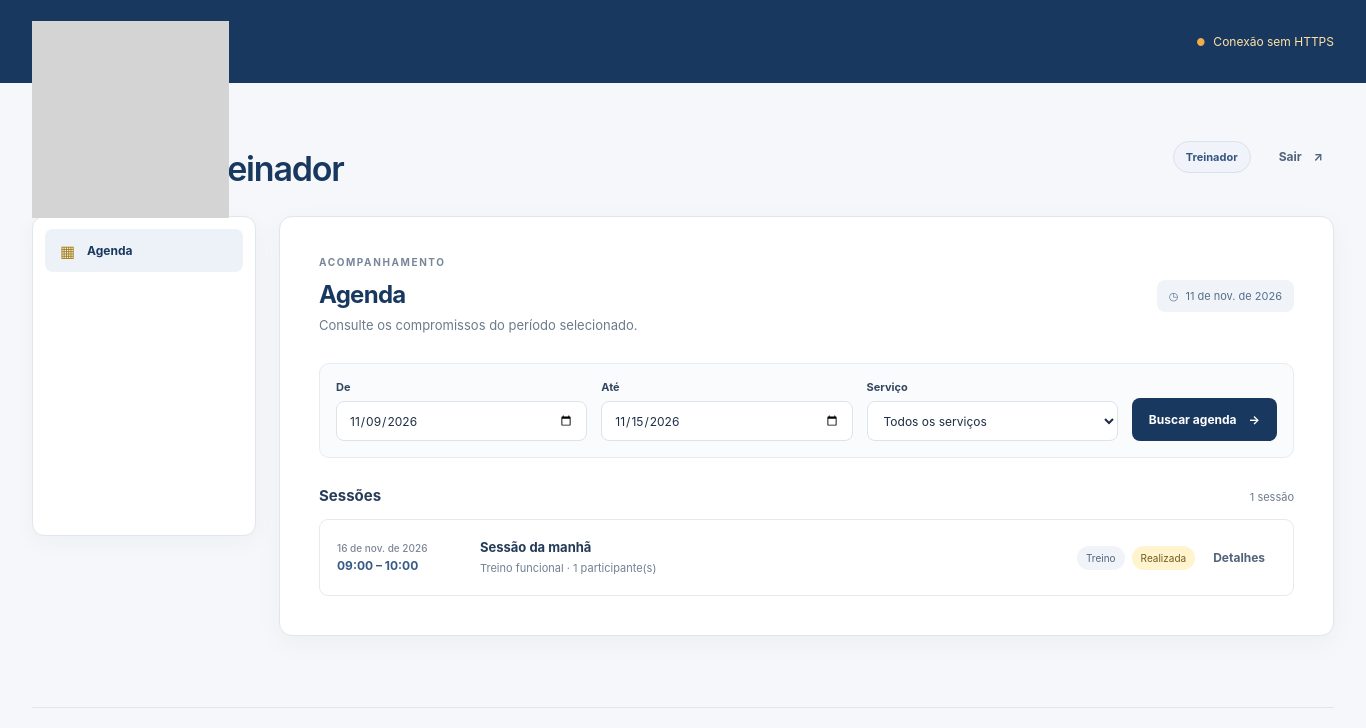
Test case: Treinador › preenche e finaliza o relatório de uma sessão realizada
The image size is (1366, 728).
Click the button "Detalhes". click: (1239, 558)
box: [1202, 536, 1276, 579]
(page scrolled)
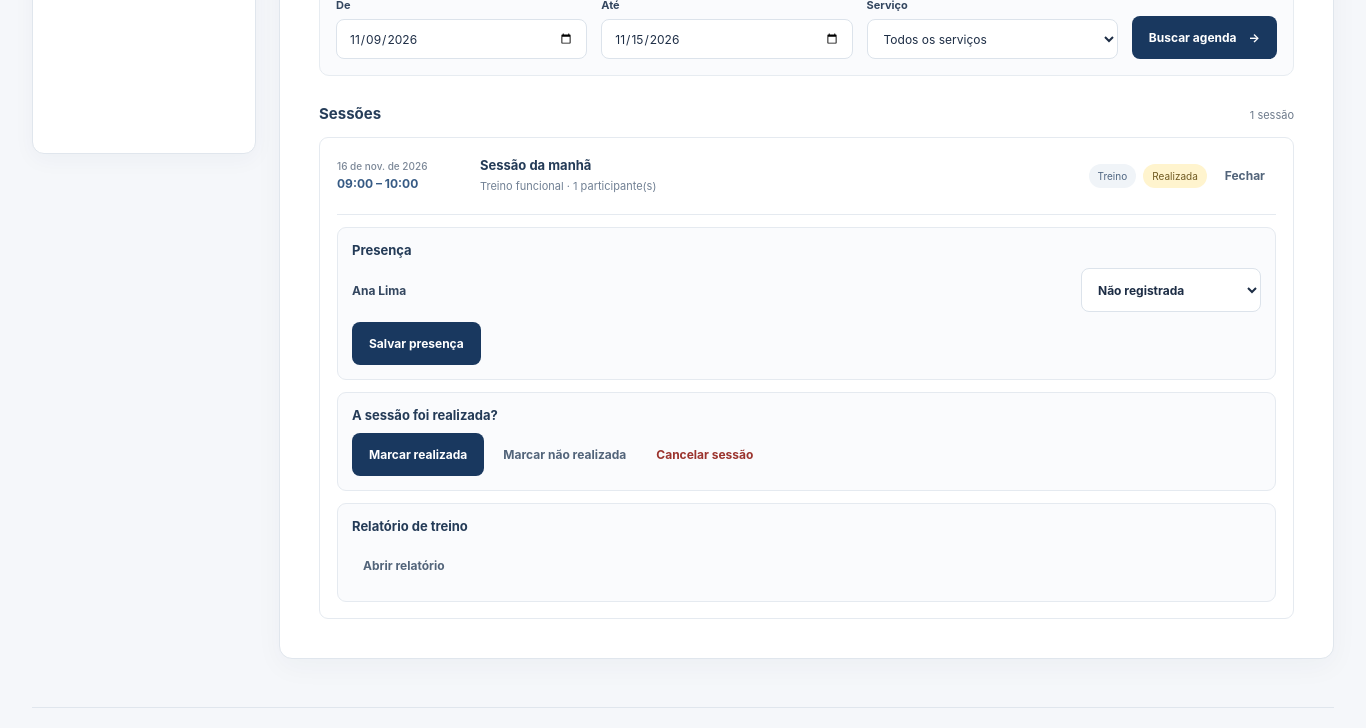
Click the button "Abrir relatório". click: (404, 566)
box: [352, 544, 456, 587]
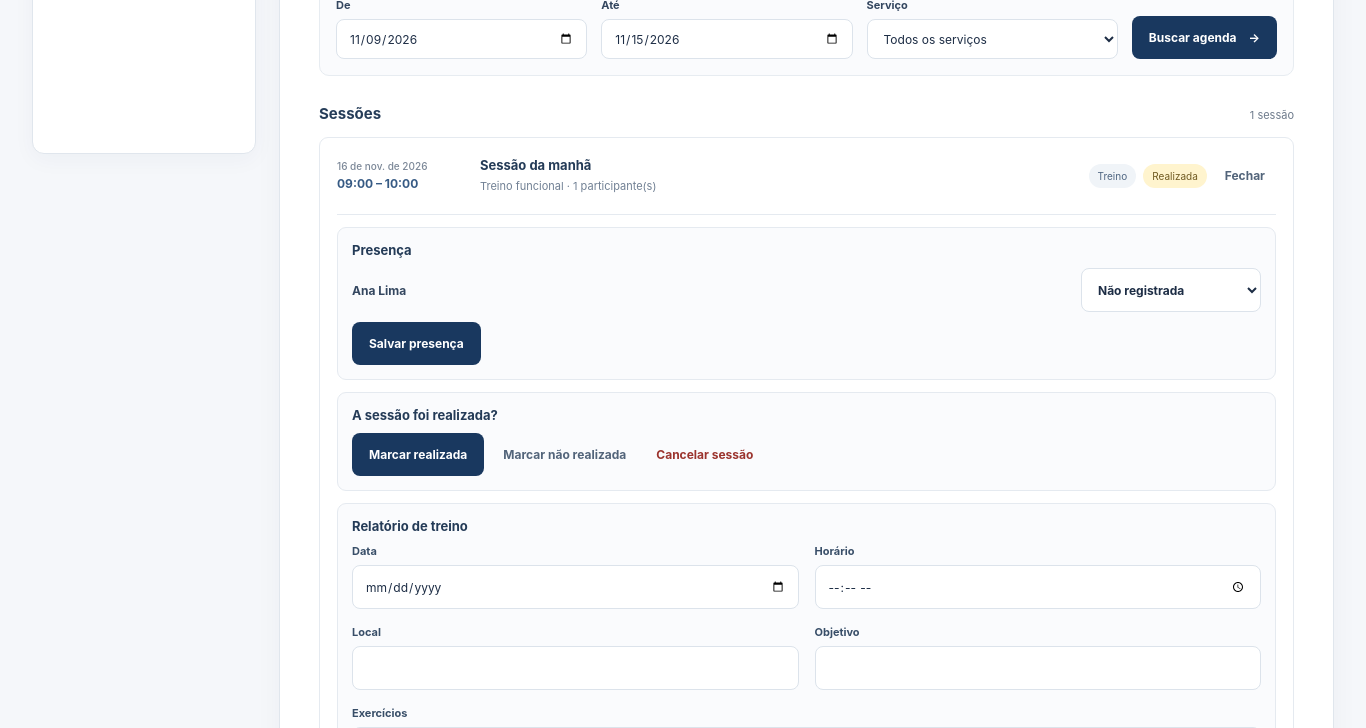
Type "Força" into the field labelled "Objetivo". click: (1038, 668)
box: [814, 646, 1261, 690]
(page scrolled)
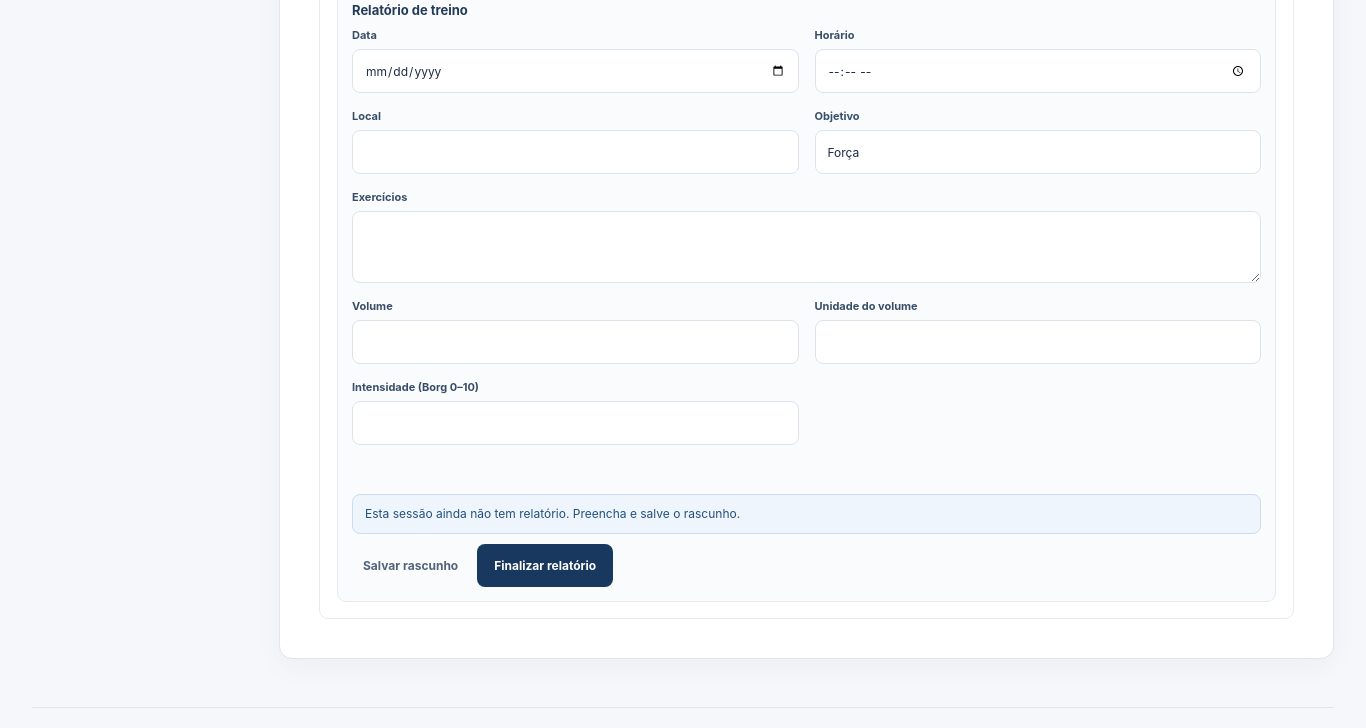
Click the button "Salvar rascunho". click: (411, 566)
box: [352, 544, 469, 587]
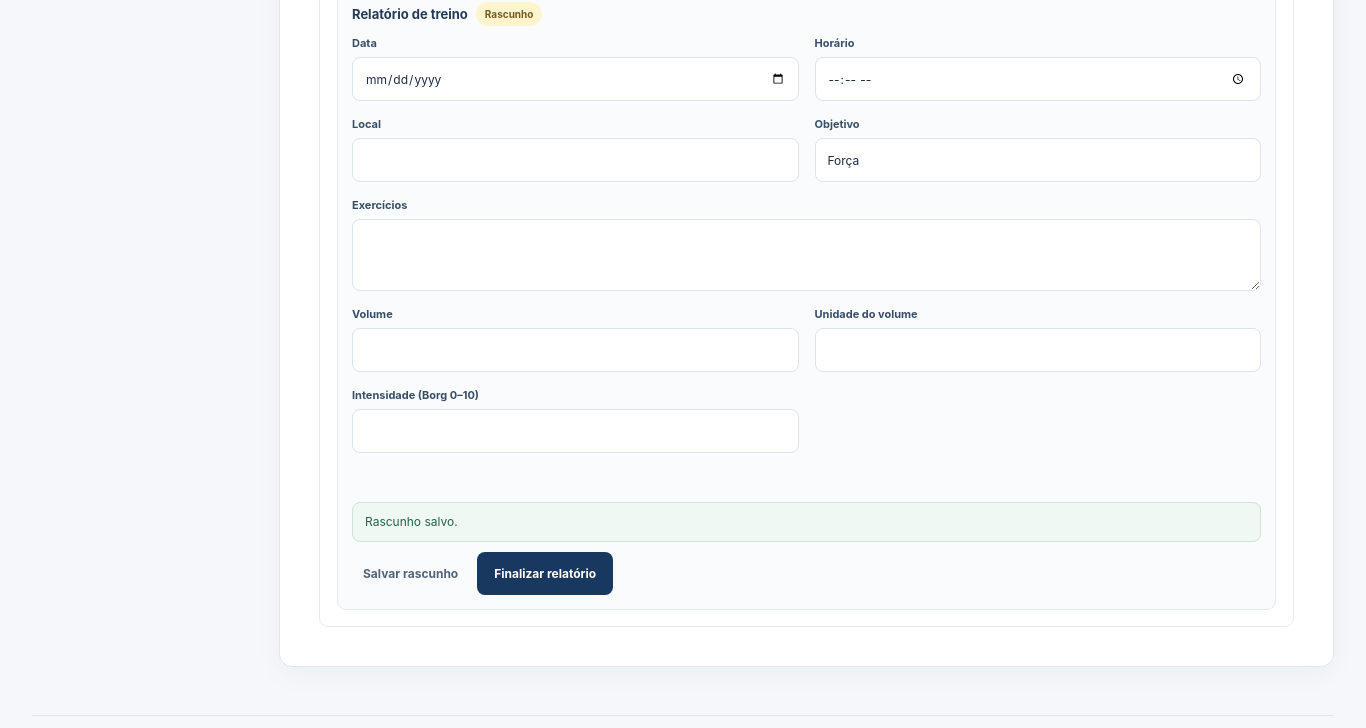
Expected: the text "Rascunho salvo." is shown, [352, 502, 1261, 542]
Click the button "Finalizar relatório". click: (545, 574)
box: [477, 552, 613, 595]
(page scrolled)
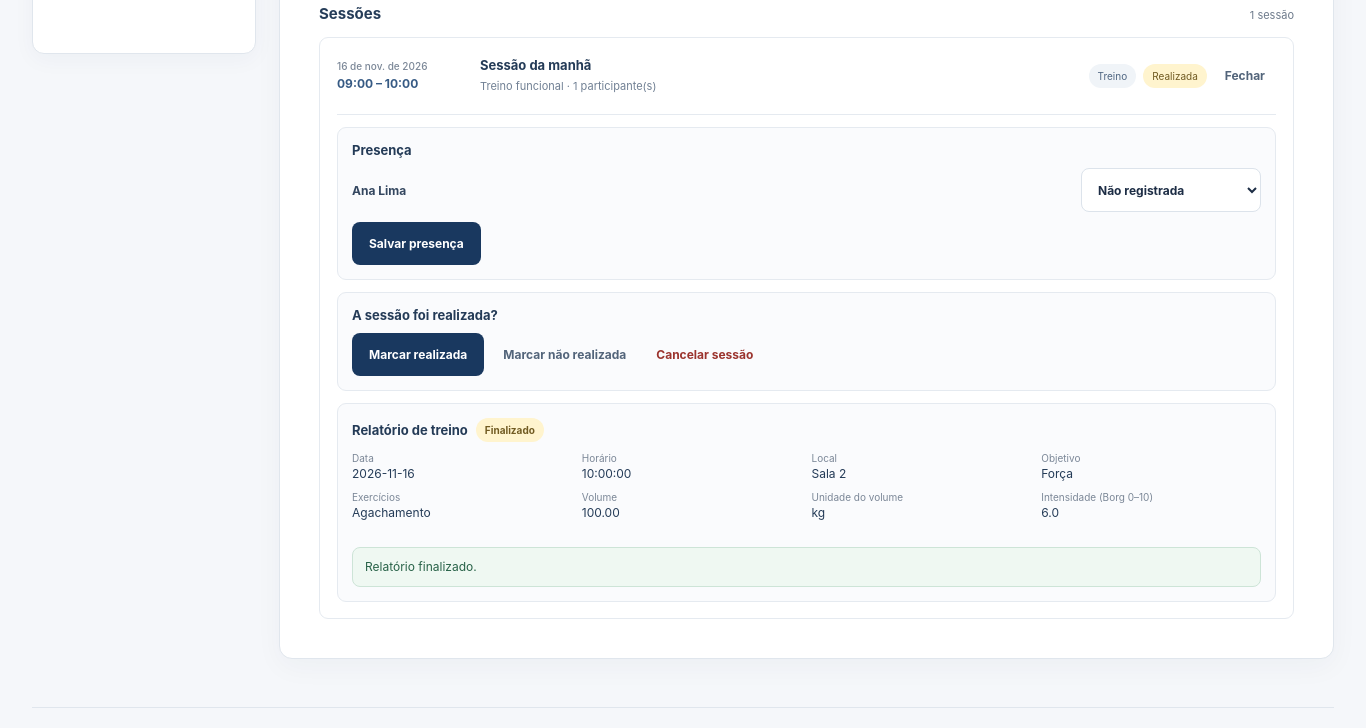
Expected: the text "Relatório finalizado." is shown, [352, 547, 1261, 587]
Expected: the text "Finalizado" is shown, [476, 418, 544, 442]
